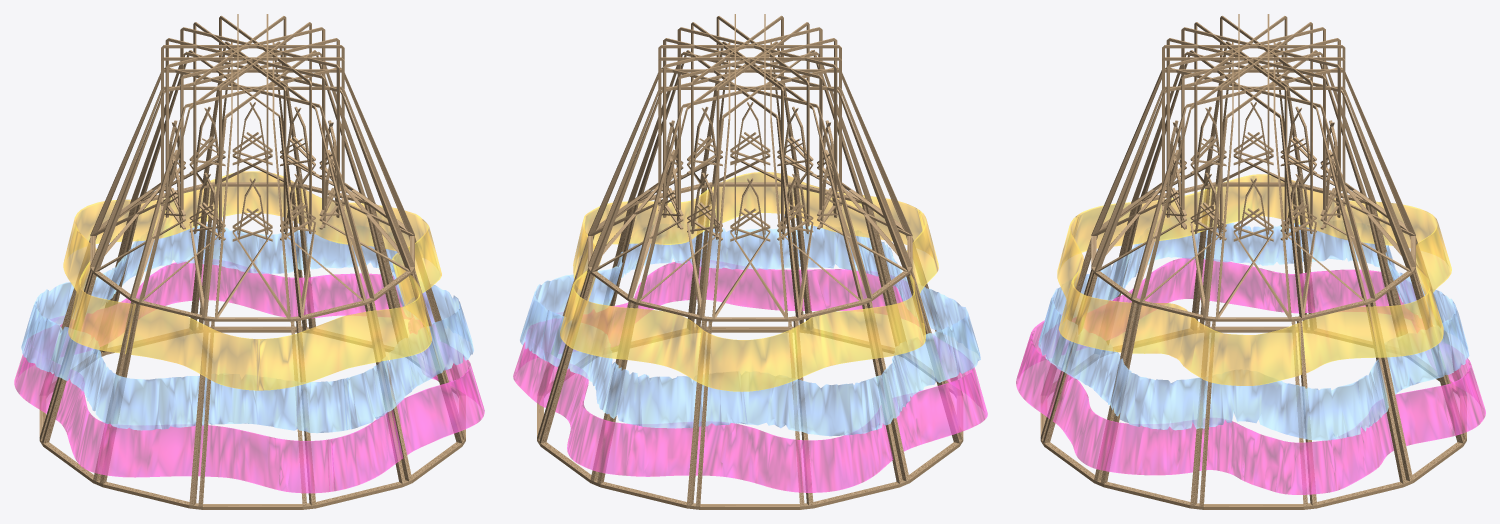
Rendered from serenity.glb.
The picture shows the model from 3 angles, left to right: view 1: azimuth 30°, elevation 25°; view 2: azimuth 150°, elevation 25°; view 3: azimuth 270°, elevation 25°; orthographic projection.
Parts seen in each view (by area): view 1: _Structure, jelly_bot.001, jelly_mid.001, jelly_top.001; view 2: _Structure, jelly_bot.001, jelly_mid.001, jelly_top.001; view 3: _Structure, jelly_bot.001, jelly_mid.001, jelly_top.001.
Part boxes in pixels (<box>): _Structure: <box>39,14,465,509</box>; jelly_bot.001: <box>14,259,484,493</box>; jelly_mid.001: <box>21,223,473,433</box>; jelly_top.001: <box>63,171,441,390</box>; _Structure: <box>537,14,963,509</box>; jelly_bot.001: <box>513,260,987,492</box>; jelly_mid.001: <box>520,224,980,436</box>; jelly_top.001: <box>560,172,938,391</box>; _Structure: <box>1040,14,1466,509</box>; jelly_bot.001: <box>1016,258,1485,494</box>; jelly_mid.001: <box>1038,217,1469,440</box>; jelly_top.001: <box>1057,174,1451,385</box>.
Size of the model in its own units: 8.94 by 7.76 by 8.98.
Materials: 4 (1 with a texture image).
